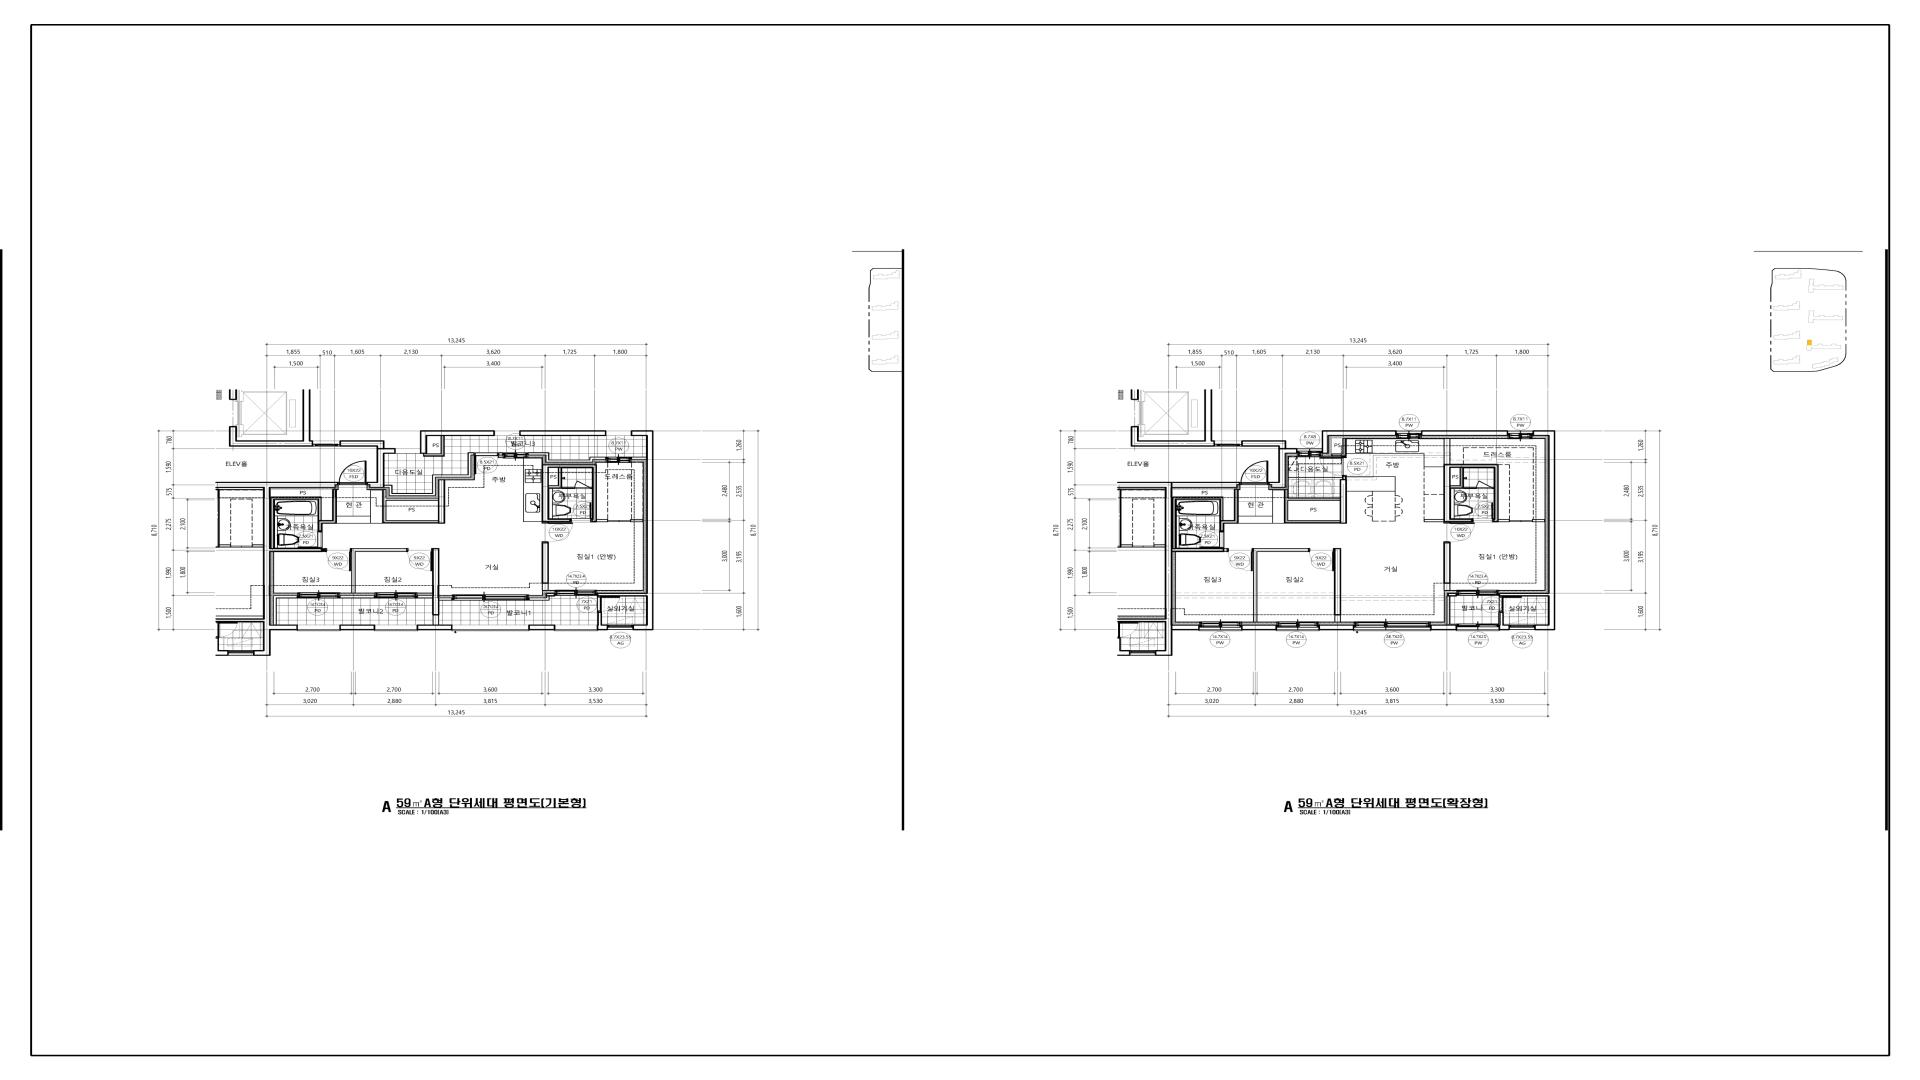door: (339, 460, 367, 491), (1241, 460, 1269, 491), (542, 522, 572, 543), (1444, 522, 1474, 543), (324, 549, 351, 571), (406, 549, 433, 571), (1226, 549, 1253, 571), (1308, 549, 1333, 571), (1319, 456, 1346, 476), (475, 452, 498, 475), (570, 502, 592, 522), (1472, 502, 1494, 522), (298, 531, 323, 547), (1200, 531, 1225, 547), (597, 596, 620, 612), (1499, 596, 1522, 612), (574, 480, 592, 489), (1476, 480, 1494, 489), (608, 520, 630, 522), (1510, 520, 1532, 522)
wall: (262, 481, 339, 630), (1164, 481, 1241, 630), (1499, 430, 1556, 630), (597, 430, 654, 630), (1424, 438, 1510, 522), (1253, 549, 1308, 622), (270, 489, 338, 547), (385, 452, 475, 496), (1172, 489, 1238, 547), (542, 464, 608, 522), (417, 549, 452, 625), (351, 549, 406, 593), (382, 489, 438, 524), (1284, 489, 1340, 524), (1321, 430, 1396, 454), (421, 430, 495, 454), (1269, 448, 1298, 488), (367, 448, 396, 488), (529, 452, 605, 463), (273, 595, 297, 625), (1422, 430, 1509, 436), (520, 430, 607, 436), (1452, 468, 1476, 489), (550, 468, 574, 489), (1335, 549, 1341, 622), (423, 436, 444, 456), (1340, 476, 1348, 524), (438, 479, 446, 524), (1447, 593, 1457, 624), (542, 543, 549, 591), (1444, 543, 1451, 591), (1332, 438, 1346, 456), (1498, 612, 1510, 630), (529, 593, 555, 601), (597, 612, 608, 630), (339, 625, 376, 630), (1241, 625, 1276, 630), (417, 625, 452, 630), (1319, 625, 1354, 630), (1429, 624, 1457, 630), (529, 625, 555, 630), (340, 595, 375, 599), (632, 456, 646, 460), (630, 520, 644, 522), (1532, 520, 1545, 522), (498, 452, 502, 455)
window: (1354, 621, 1429, 632), (452, 625, 529, 632), (1276, 621, 1319, 632), (1200, 621, 1241, 632), (452, 595, 529, 600), (1457, 624, 1498, 632), (297, 592, 340, 599), (555, 589, 597, 596), (375, 592, 417, 599), (1457, 589, 1499, 596), (298, 625, 339, 632), (555, 625, 596, 632), (376, 625, 417, 632), (1298, 448, 1321, 458), (1396, 431, 1422, 439), (1509, 431, 1532, 439), (502, 452, 529, 459), (605, 456, 632, 463), (608, 625, 633, 630), (1510, 625, 1535, 630), (396, 448, 419, 454), (495, 431, 520, 435), (607, 431, 630, 435)
